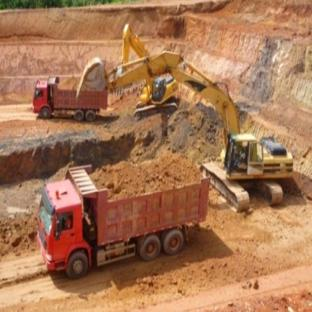ExcavationMachinery: (74, 49, 299, 220), (119, 24, 187, 134)
Vehicle: (34, 151, 238, 279), (26, 71, 112, 135)
